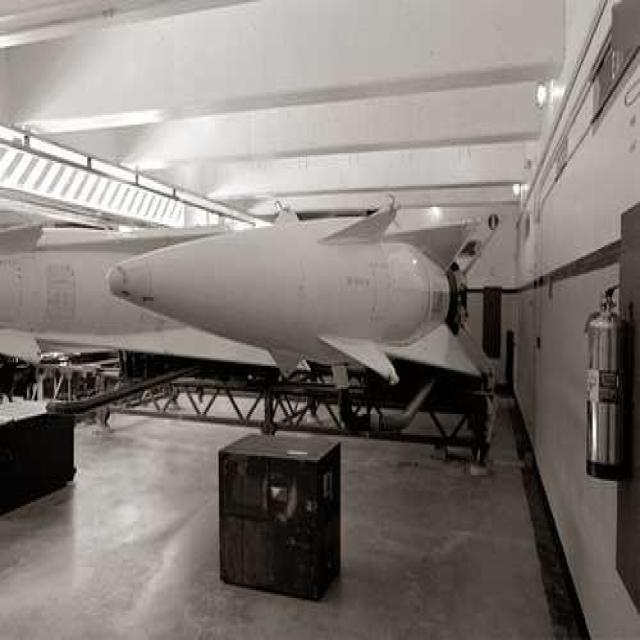missile: (106, 199, 499, 388)
